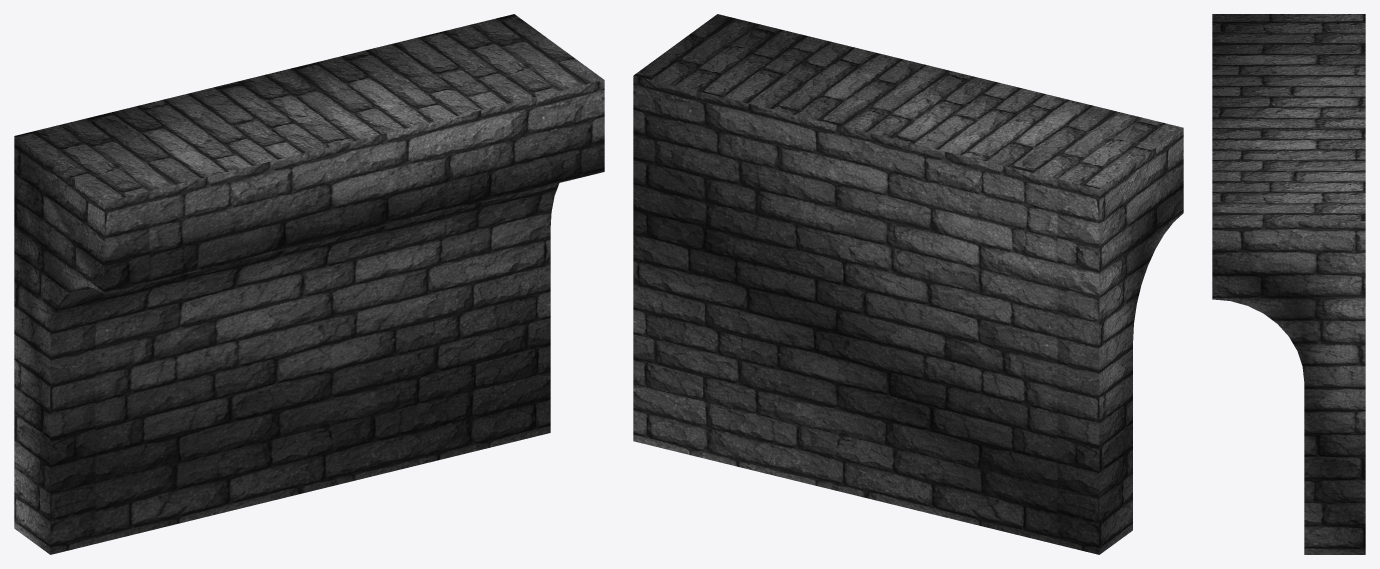
Rendered from stone wall sloped.glb.
The picture shows the model from 3 angles, left to right: view 1: azimuth 30°, elevation 25°; view 2: azimuth 150°, elevation 25°; view 3: azimuth 270°, elevation 25°; orthographic projection. The views are drawn at different scales.
Visible parts, largest first — view 1: Circular Doorway.011; view 2: Circular Doorway.011; view 3: Circular Doorway.011.
Part boxes in pixels (x1,y1,x2,y2): Circular Doorway.011: (14, 14, 604, 554); Circular Doorway.011: (633, 14, 1183, 554); Circular Doorway.011: (1212, 14, 1365, 554).
Size of the model in its own units: 3.66 by 2.74 by 1.14.
1 material, 1 textured.
